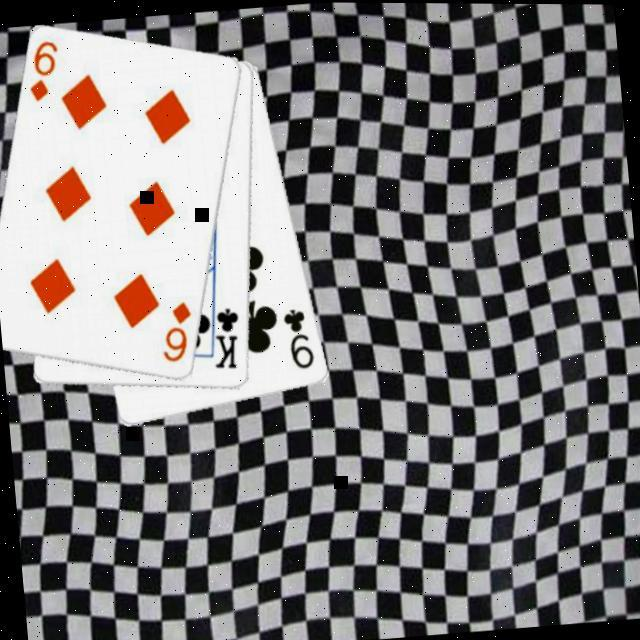6D: (156, 298, 200, 367), (23, 37, 67, 106)
9C: (280, 303, 320, 374)
KC: (203, 296, 247, 373)
